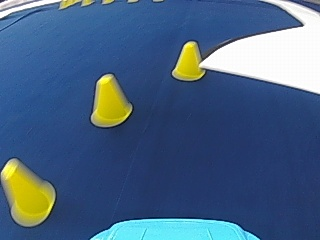cone: (1, 159, 54, 227), (90, 72, 133, 128), (171, 40, 204, 81)
